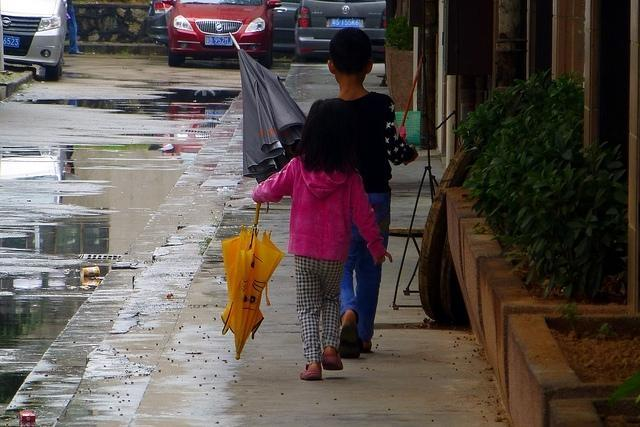car: (162, 0, 283, 70), (294, 0, 386, 63), (2, 2, 71, 78), (272, 2, 300, 60)
